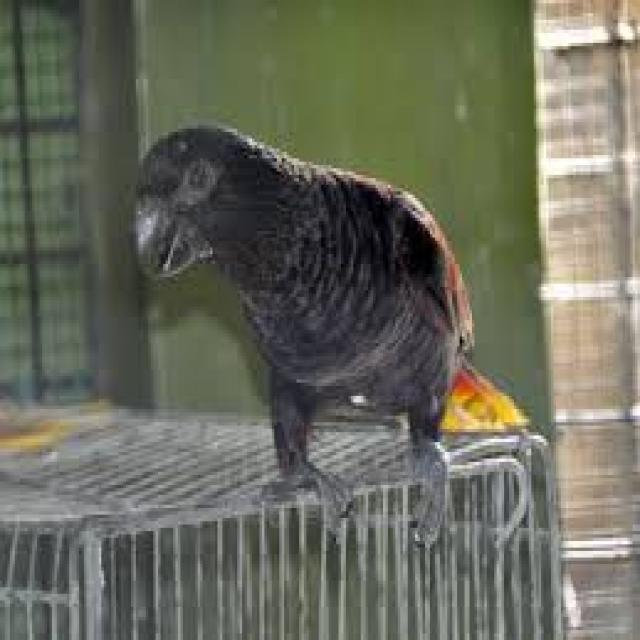Nuri Hitam: (118, 94, 566, 550)
